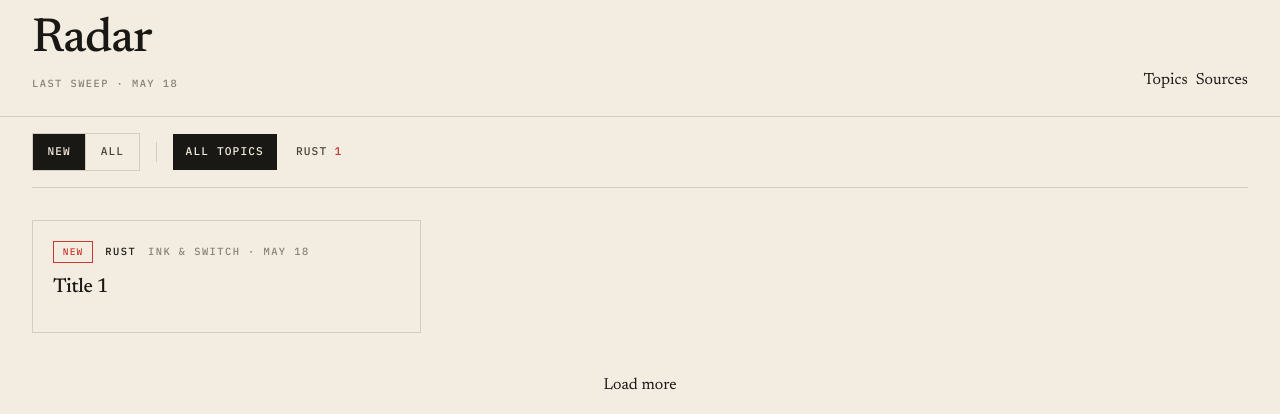
RadarInboxRoute while a filter change is in flight › hides Load more, whose page count still belongs to the old filter
expect the heading "Title 1" is shown: met, box [53,277,108,297]
expect the button "Load more" is shown: met, box [603,373,676,397]
Click the button "All". click: {"x": 112, "y": 152}
box: [85,134,139,170]
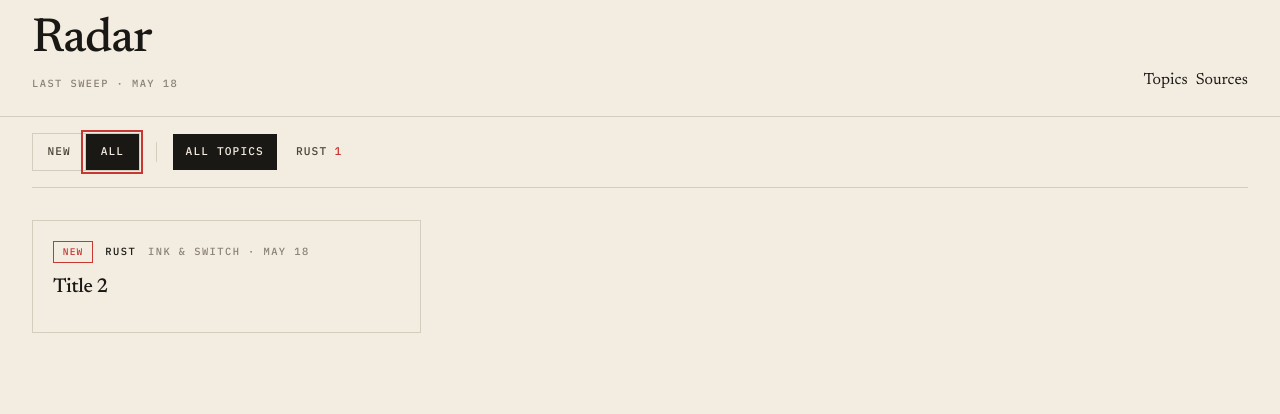
expect the button "Load more" is gone: met
